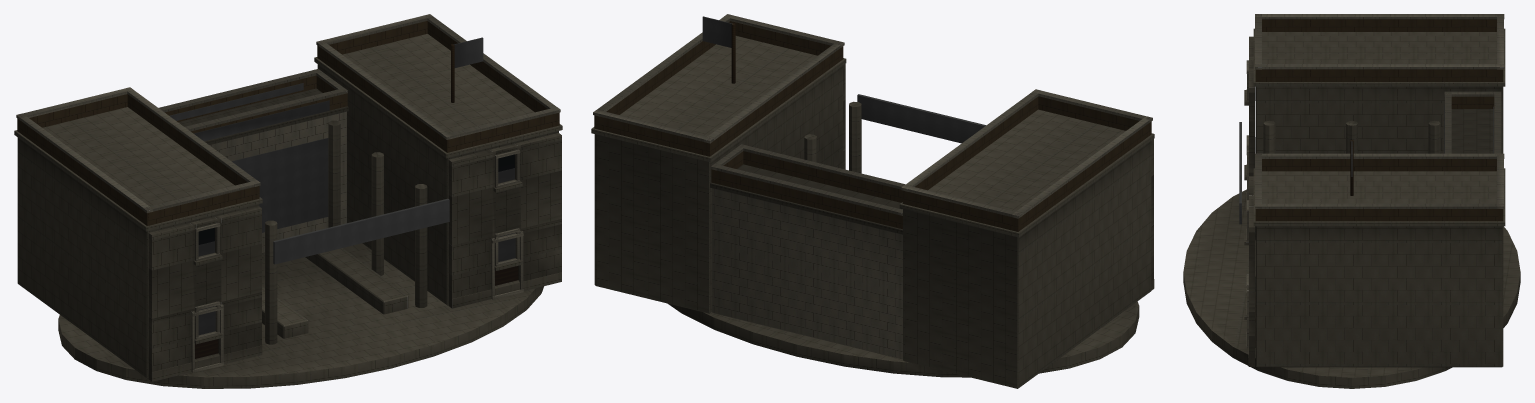
File: barracks-israelite.glb
3 renders of one model, left to right at view 1: azimuth 30°, elevation 25°; view 2: azimuth 150°, elevation 25°; view 3: azimuth 270°, elevation 25°, orthographic. The views are drawn at different scales.
Visible parts, largest first — view 1: LOD0; view 2: LOD0; view 3: LOD0.
Boxes of the visible parts, x1,y1,x2,y2 form: LOD0: (14,14,562,388); LOD0: (591,14,1154,388); LOD0: (1183,14,1520,388).
Size of what is drawn, in the model's own units: 1.82 by 0.85 by 1.23.
2 materials, 2 textured.
